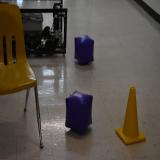cone: (115, 86, 146, 145)
cube: (65, 90, 93, 135), (74, 35, 95, 65)
